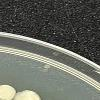white: (11, 89, 44, 100), (0, 82, 19, 100)
